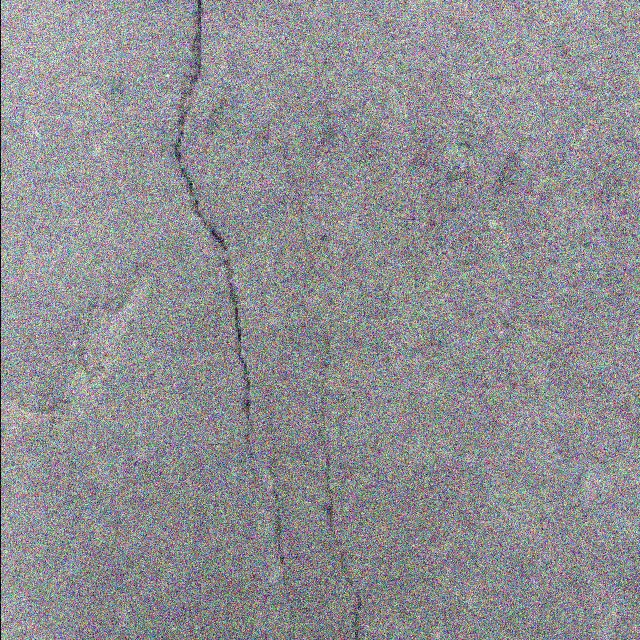SurfaceCrack: (148, 0, 382, 640)
